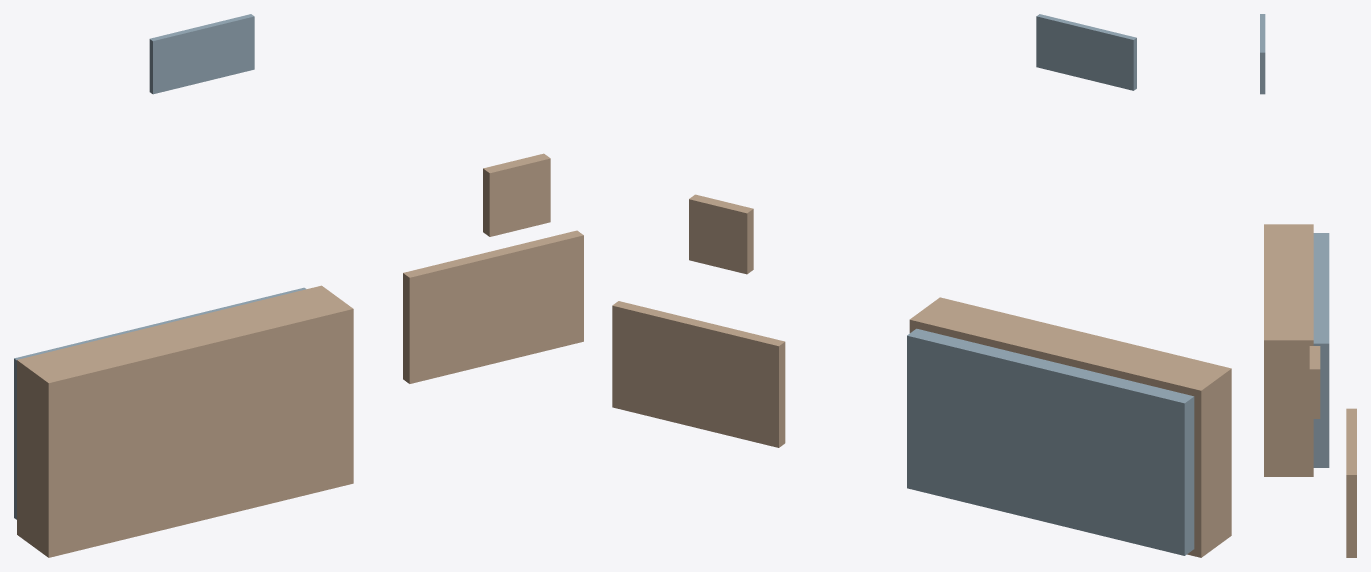
File: furniture.glb
3 renders of one model, left to right at view 1: azimuth 30°, elevation 25°; view 2: azimuth 150°, elevation 25°; view 3: azimuth 270°, elevation 25°, orthographic. The views are drawn at different scales.
Visible parts, largest first — view 1: bed, table, drain, chair, quilt; view 2: quilt, table, bed, drain, chair; view 3: bed, quilt, table, chair, drain.
Boxes of the visible parts, x1,y1,x2,y2 form: bed: [17, 285, 353, 557]; table: [403, 230, 583, 383]; drain: [149, 14, 254, 94]; chair: [483, 153, 550, 236]; quilt: [14, 287, 306, 519]; quilt: [907, 328, 1194, 555]; table: [612, 301, 785, 447]; bed: [909, 297, 1231, 557]; drain: [1036, 14, 1136, 90]; chair: [689, 194, 753, 274]; bed: [1264, 224, 1313, 476]; quilt: [1313, 233, 1329, 467]; table: [1346, 408, 1356, 557]; chair: [1309, 346, 1320, 418]; drain: [1260, 14, 1265, 94].
Bounding box in the file's own units: 4.05 × 3.25 × 0.74.
